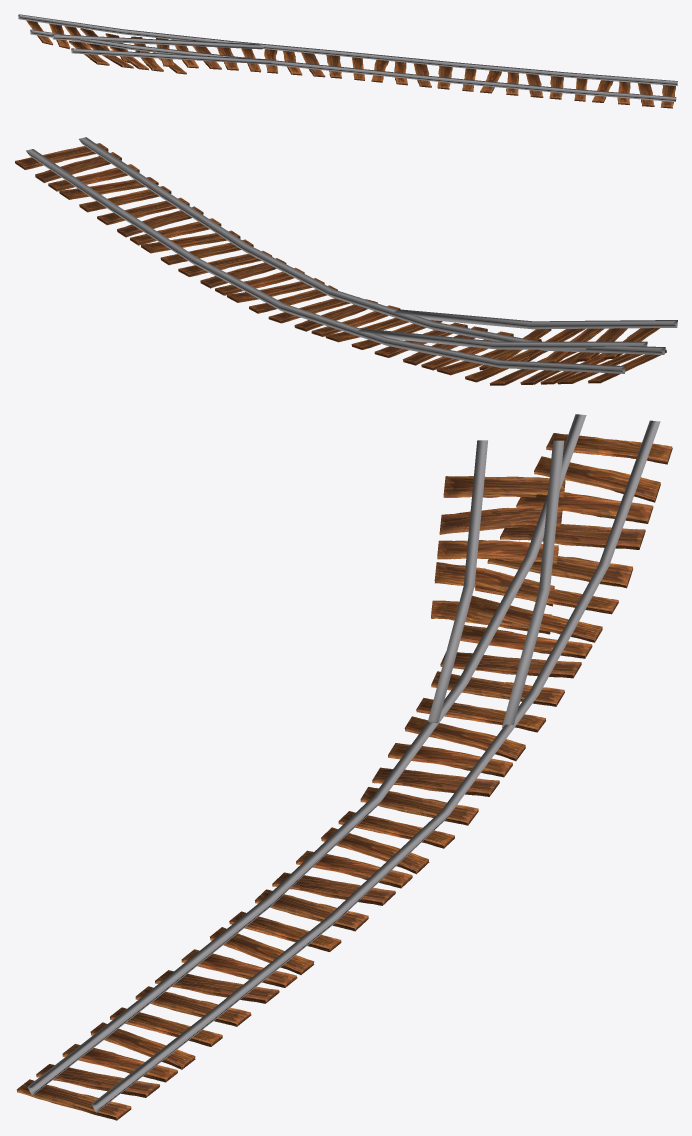
Rendered from SWORDLIGHT20_MAIN1RAILS1N.fbx.
The picture shows the model from 3 angles, top to bottom: view 1: azimuth 30°, elevation 25°; view 2: azimuth 150°, elevation 25°; view 3: azimuth 270°, elevation 25°; orthographic projection. The views are drawn at different scales.
Visible parts, largest first — view 1: SWORDLIGHT20_MAIN1RAILS1N; view 2: SWORDLIGHT20_MAIN1RAILS1N; view 3: SWORDLIGHT20_MAIN1RAILS1N.
Part boxes in pixels (left/top/right/bottom): SWORDLIGHT20_MAIN1RAILS1N: left=18, top=14, right=677, bottom=108; SWORDLIGHT20_MAIN1RAILS1N: left=15, top=137, right=677, bottom=385; SWORDLIGHT20_MAIN1RAILS1N: left=17, top=414, right=672, bottom=1120.
Bounding box in the file's own units: 166000 × 28734 × 89848.
Materials: 2 (2 with a texture image).
